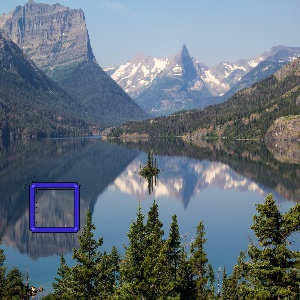square: (27, 181, 81, 234)
